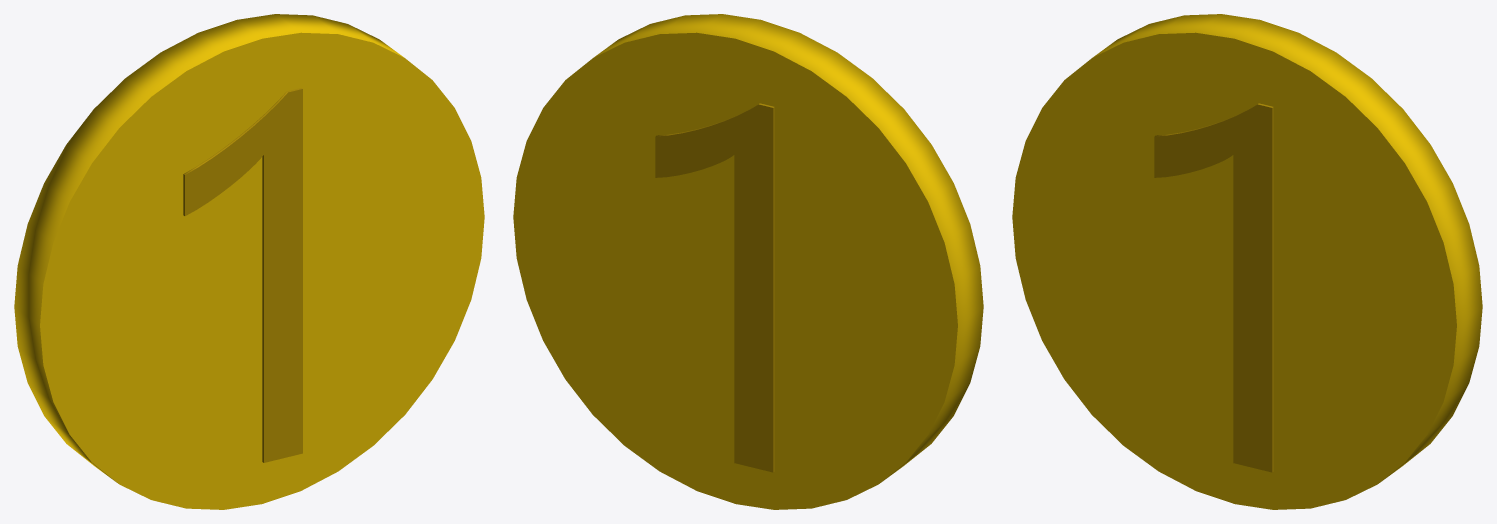
File: coin.dae
The picture shows the model from 3 angles, left to right: view 1: azimuth 30°, elevation 25°; view 2: azimuth 150°, elevation 25°; view 3: azimuth 330°, elevation 25°; orthographic projection.
Parts seen in each view (by area): view 1: Münze, _1_003_001; view 2: Münze, _1_003; view 3: Münze, _1_003_001.
Part boxes in pixels (<box>): Münze: <box>14,14,484,509</box>; _1_003_001: <box>183,88,302,462</box>; Münze: <box>513,14,983,509</box>; _1_003: <box>655,103,774,472</box>; Münze: <box>1012,14,1482,509</box>; _1_003_001: <box>1154,103,1273,472</box>.
Bounding box in the file's own units: 0.9375 × 0.1044 × 0.9375.
